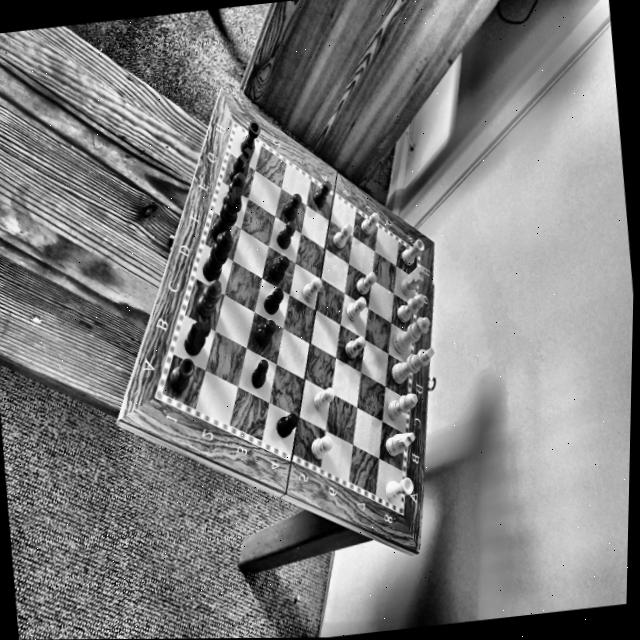black-bishop: (186, 278, 229, 321), (216, 171, 250, 204)
black-king: (200, 186, 250, 242)
black-knight: (223, 145, 257, 186), (179, 319, 212, 354)
black-pawn: (241, 353, 272, 393), (274, 189, 308, 220), (305, 176, 335, 210), (268, 221, 299, 251), (249, 318, 278, 350), (256, 286, 286, 316), (264, 252, 292, 284), (269, 410, 299, 436)
black-queen: (194, 229, 236, 285)
black-rook: (160, 354, 200, 395), (230, 120, 264, 153)
white-bishop: (381, 390, 420, 421), (389, 291, 426, 323)
white-king: (380, 344, 438, 384)
white-knight: (375, 424, 419, 455), (392, 261, 429, 295)
white-pawn: (326, 216, 356, 252), (302, 431, 336, 461), (306, 383, 338, 413), (339, 293, 368, 322), (298, 275, 323, 303), (347, 272, 377, 295), (355, 208, 381, 233), (339, 334, 366, 358)
white-queen: (386, 312, 433, 354)
white-rook: (375, 469, 419, 508), (393, 237, 426, 265)
